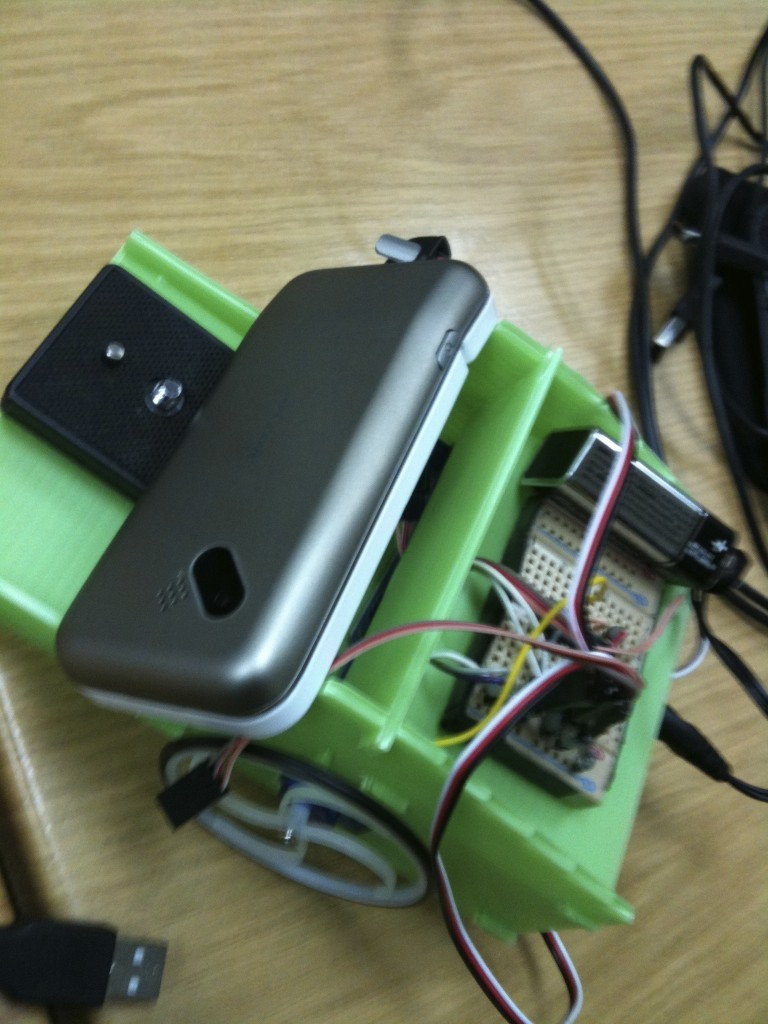mobile phone: (53, 257, 492, 743)
